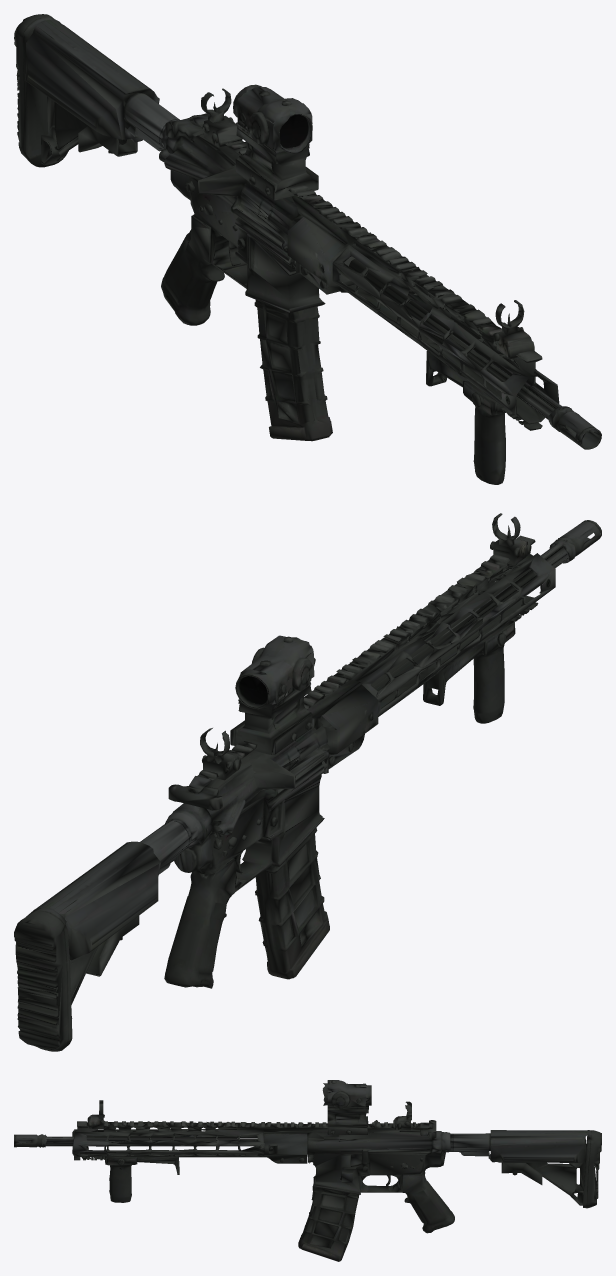
Rendered from rifle.glb.
3 renders of one model, top to bottom at view 1: azimuth 30°, elevation 25°; view 2: azimuth 150°, elevation 25°; view 3: azimuth 270°, elevation 25°, orthographic. The views are drawn at different scales.
Visible parts, largest first — view 1: rifle; view 2: rifle; view 3: rifle.
Part boxes in pixels (x1,y1,x2,y2): rifle: (14, 14, 601, 484); rifle: (14, 513, 601, 1051); rifle: (14, 1080, 601, 1261).
Size of the model in its own units: 0.0767 by 0.2994 by 0.9.
Materials: 1 (1 with a texture image).
